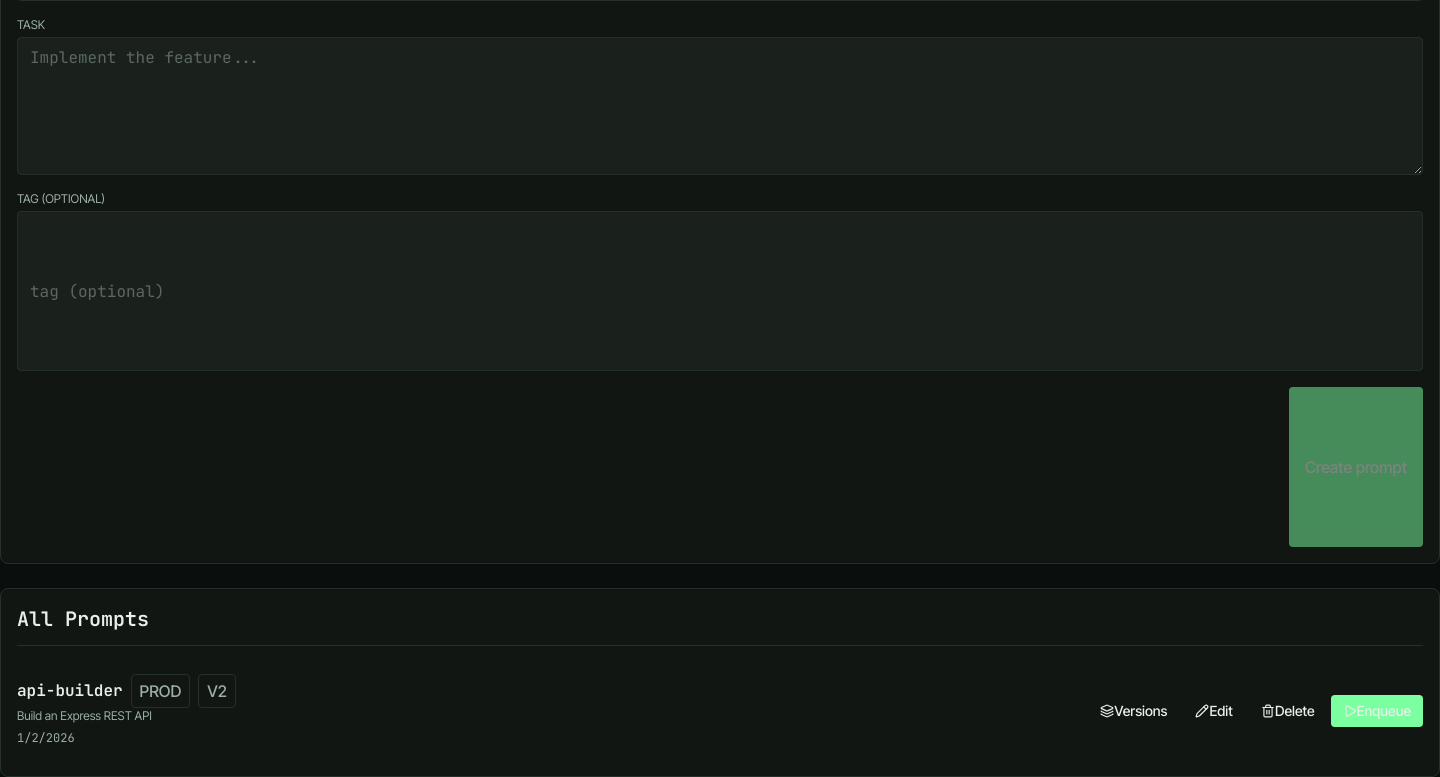
Prompts › surfaces prompt delete failures
This screenshot has width=1440, height=777.
(page scrolled)
Expected: the heading "api-builder" is shown, [17, 679, 123, 703]
Click the button "Delete".
click(1288, 711)  # box [1249, 695, 1327, 727]
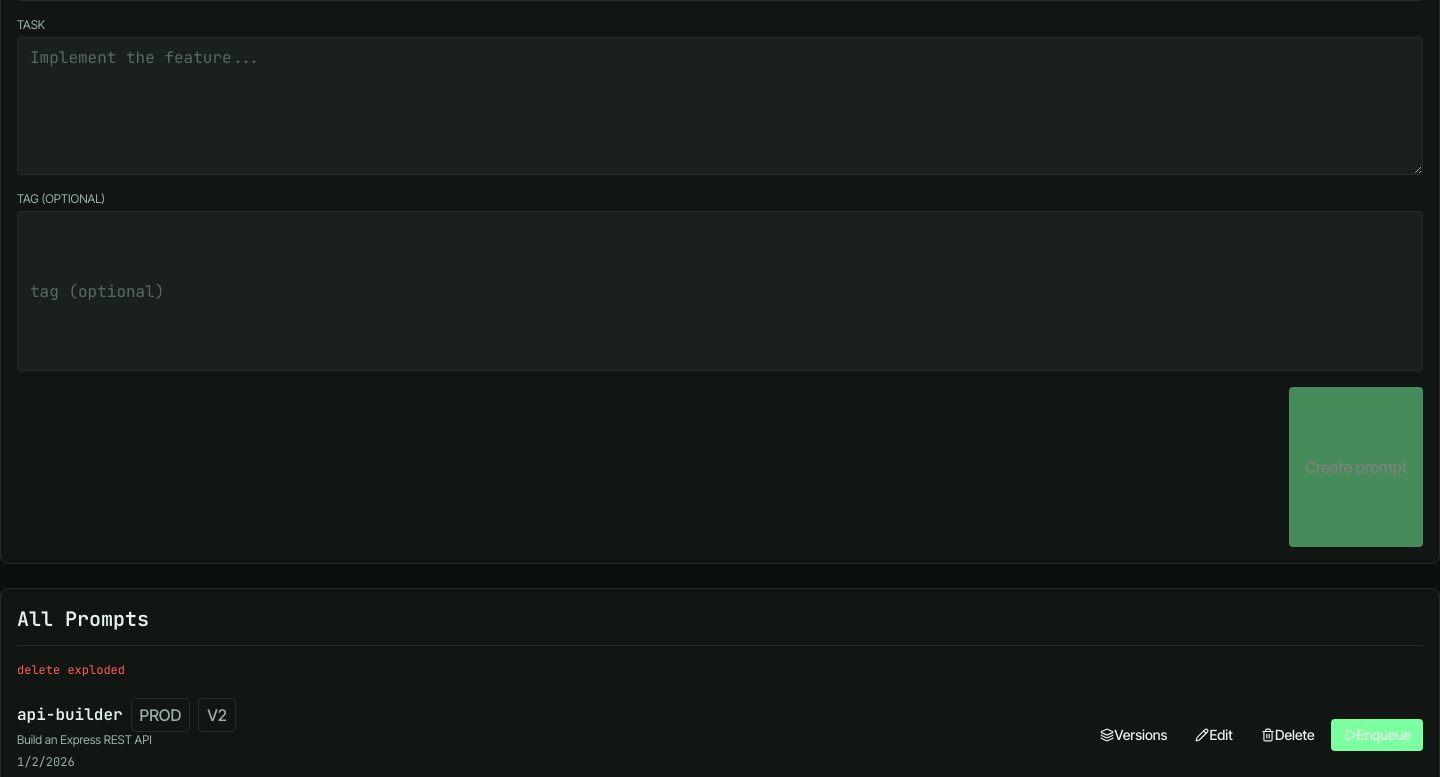
Now the message reads "delete exploded", box [17, 662, 125, 678]
